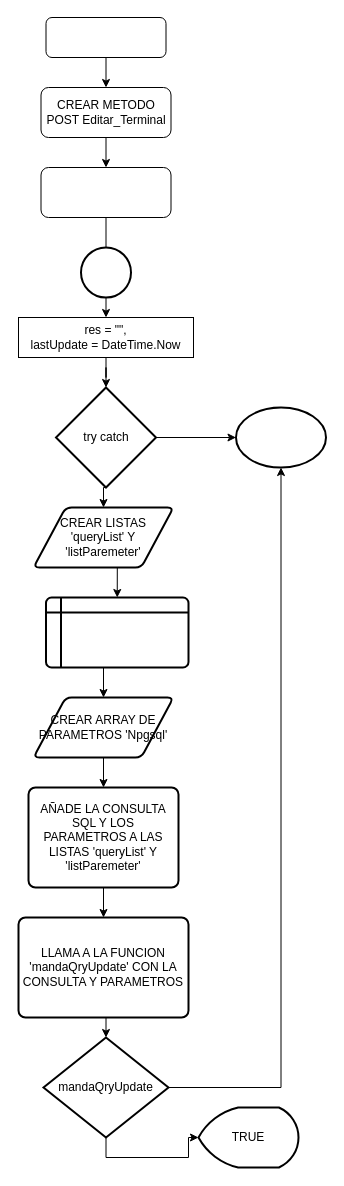
This 344x1186 diagram has some shape labels left out. The shapes that lost their labels are listed below. From the top down, each one's centre as x and y in pixels, then its label:
pixel 105 37: CREAR CLASS editarTerminales
pixel 105 192: CREAR METODO EditarTerminales EN Metodos.cs
pixel 106 272: INICIO
pixel 280 437: return res = ex.Message
pixel 116 632: SELECT sales_terminal
